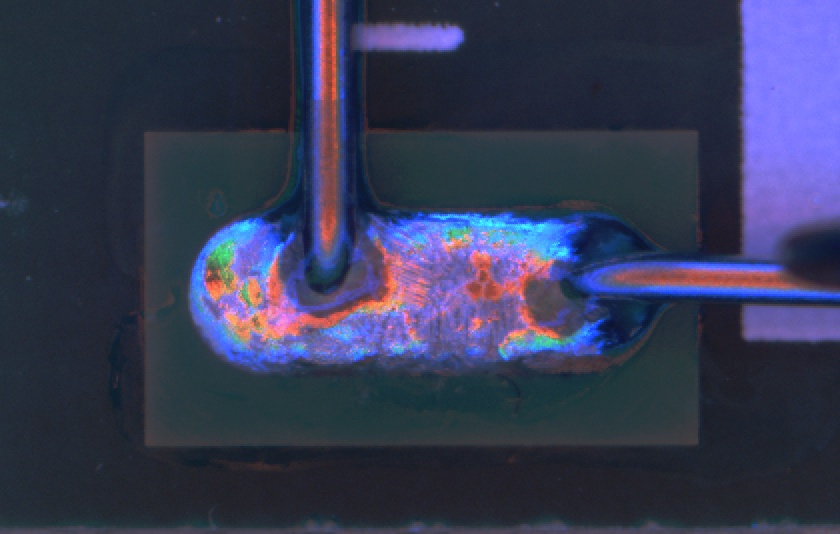spring: (542, 243, 840, 318), (293, 1, 364, 297)
spring_pin: (187, 215, 665, 375)
